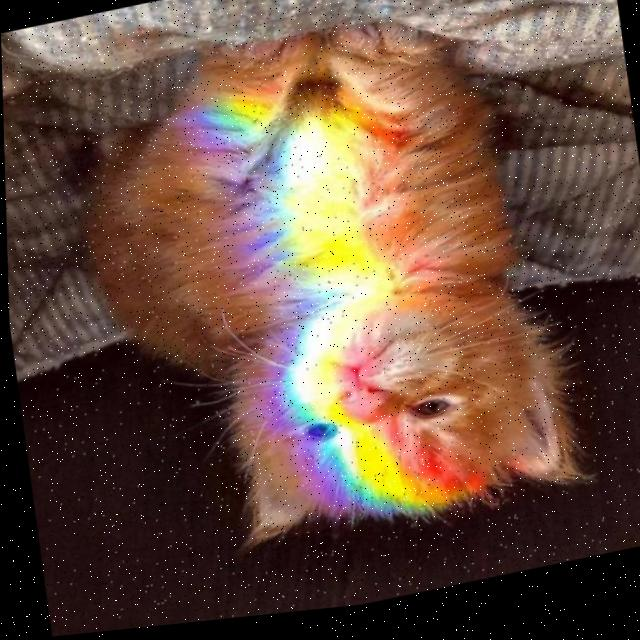Cats: (18, 0, 640, 639)
